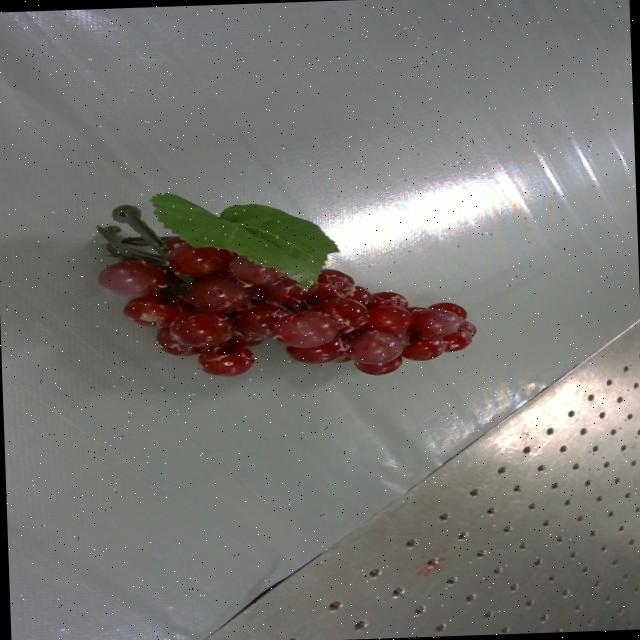grape: (96, 192, 475, 375)
